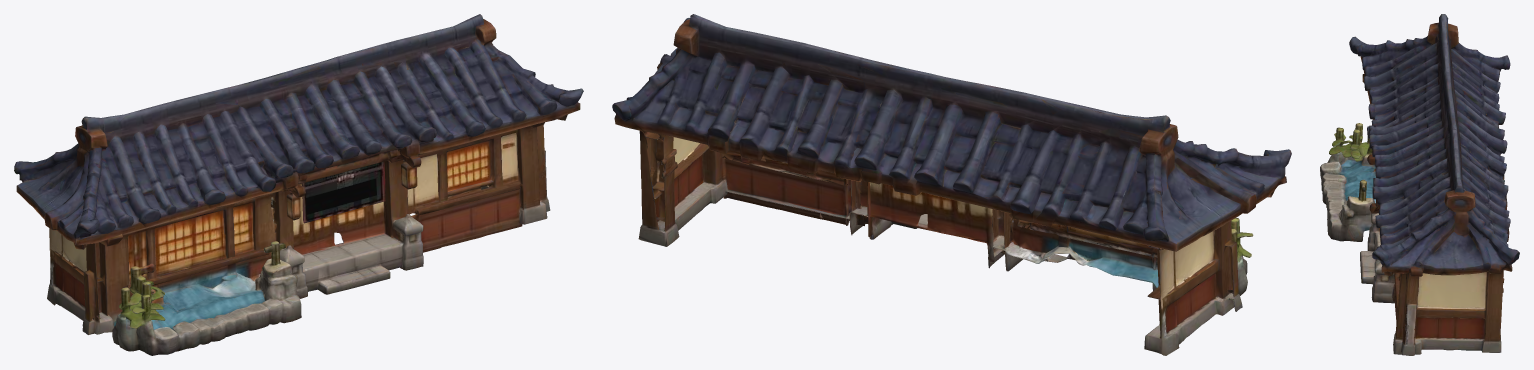
Rendered from candidate.glb.
3 views of the same model, side by side, from view 1: azimuth 30°, elevation 25°; view 2: azimuth 150°, elevation 25°; view 3: azimuth 270°, elevation 25° (orthographic). The views are drawn at different scales.
Parts seen in each view (by area): view 1: compact__onsen_1__native_mobile; view 2: compact__onsen_1__native_mobile; view 3: compact__onsen_1__native_mobile.
Boxes of the visible parts, x1,y1,x2,y2 form: compact__onsen_1__native_mobile: [14, 14, 583, 355]; compact__onsen_1__native_mobile: [612, 14, 1291, 355]; compact__onsen_1__native_mobile: [1320, 14, 1519, 355].
Size of the model in its own units: 1 by 0.3567 by 0.3899.
1 material, 1 textured.
